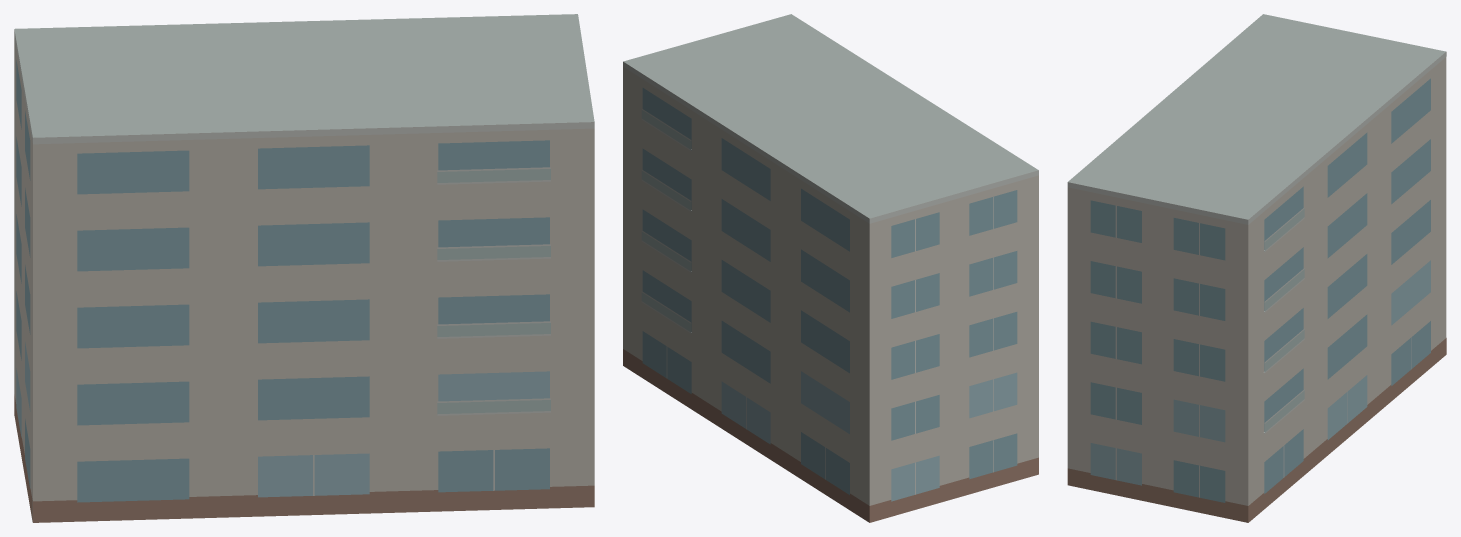
Rendered from survey-upis-32944160.glb.
3 renders of one model, left to right at view 1: azimuth 30°, elevation 25°; view 2: azimuth 150°, elevation 25°; view 3: azimuth 270°, elevation 25°, orthographic. The views are drawn at different scales.
Parts seen in each view (by area): view 1: survey-upis-32944160.tmp; view 2: survey-upis-32944160.tmp; view 3: survey-upis-32944160.tmp.
Boxes of the visible parts, x1,y1,x2,y2 form: survey-upis-32944160.tmp: (14,14,594,522); survey-upis-32944160.tmp: (623,14,1038,522); survey-upis-32944160.tmp: (1067,14,1446,522).
Size of the model in its own units: 20.97 by 14.4 by 16.32.
